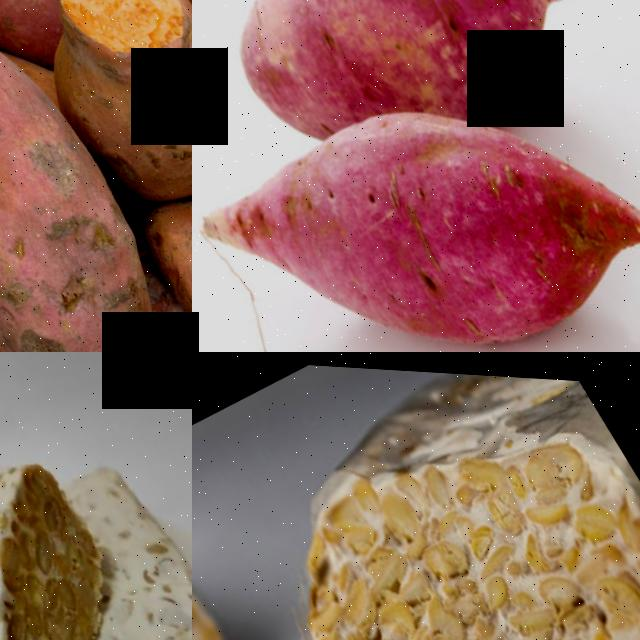sweet potato: (192, 0, 640, 352), (192, 0, 616, 200), (0, 0, 192, 352), (0, 0, 192, 220), (111, 153, 192, 352)
tempeh: (192, 355, 640, 640), (0, 411, 138, 640), (0, 544, 144, 640), (192, 463, 267, 640), (59, 541, 192, 640)
